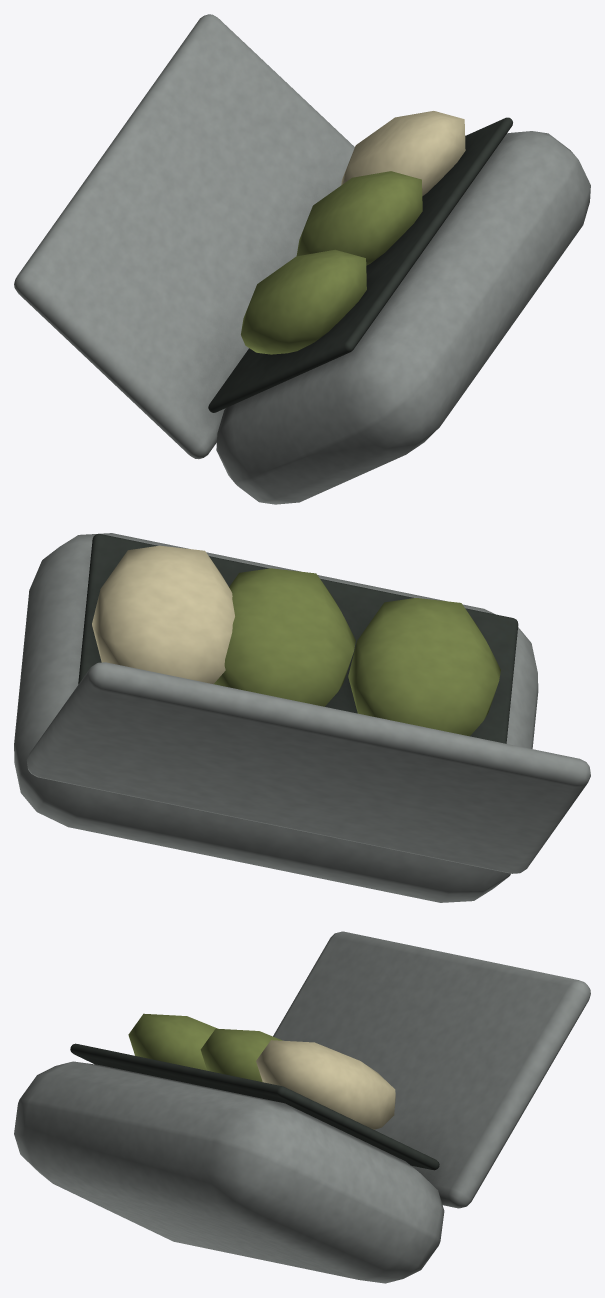
3 renders of one model, top to bottom at view 1: azimuth 30°, elevation 25°; view 2: azimuth 150°, elevation 25°; view 3: azimuth 270°, elevation 25°, orthographic. The views are drawn at different scales.
Parts seen in each view (by area): view 1: Open metal mess tin; view 2: Open metal mess tin; view 3: Open metal mess tin.
Boxes of the visible parts, x1,y1,x2,y2 form: Open metal mess tin: (14,14,590,504); Open metal mess tin: (14,533,590,902); Open metal mess tin: (14,931,590,1283).
Bounding box in the file's own units: 1.38 × 0.7863 × 1.3.
1 material, 1 textured.
